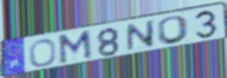3: (193, 9, 220, 42)
8: (96, 25, 121, 57)
M: (57, 28, 95, 66)
N: (126, 18, 157, 53)
O: (156, 14, 191, 46), (28, 38, 58, 68)
